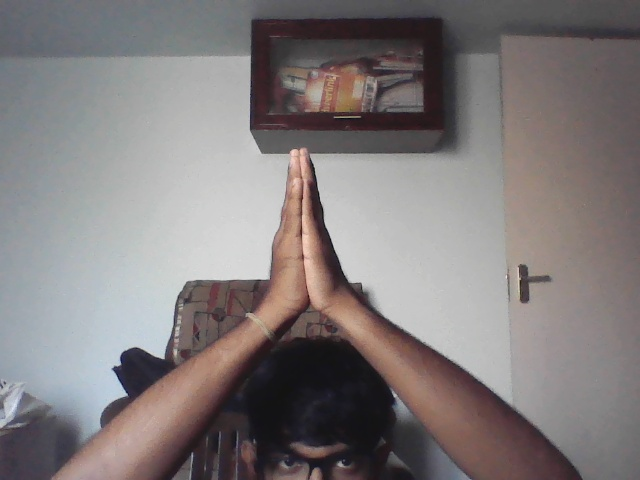Sign: (240, 147, 361, 339)
